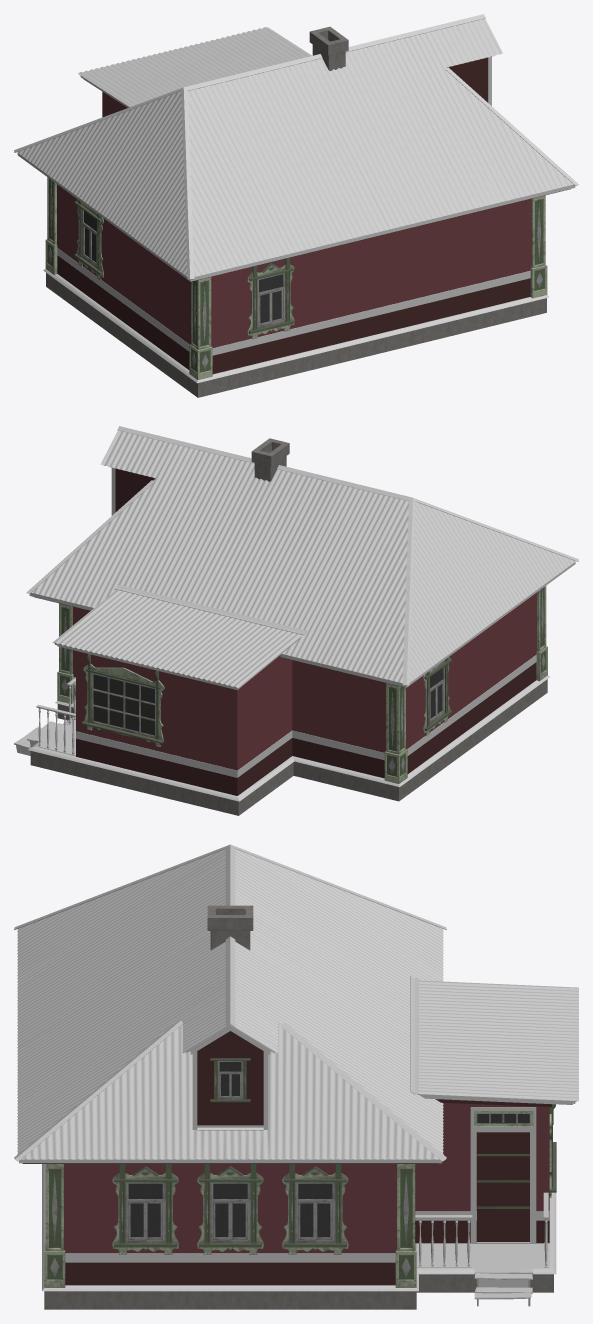
Rendered from Old_Russian_House.fbx.
The picture shows the model from 3 angles, top to bottom: view 1: azimuth 30°, elevation 25°; view 2: azimuth 150°, elevation 25°; view 3: azimuth 270°, elevation 25°; orthographic projection. The views are drawn at different scales.
Parts seen in each view (by area): view 1: Crovel, Body, Elements, Roof; view 2: Crovel, Body, Elements, Roof, Stair; view 3: Crovel, Body, Elements, Door, Roof, Stair.
Part boxes in pixels (bbox=[...]): Crovel: bbox=[14, 14, 578, 279]; Body: bbox=[43, 56, 549, 397]; Elements: bbox=[45, 177, 547, 379]; Roof: bbox=[17, 26, 575, 281]; Crovel: bbox=[26, 426, 578, 687]; Body: bbox=[28, 468, 549, 815]; Elements: bbox=[57, 586, 547, 783]; Roof: bbox=[29, 438, 575, 689]; Stair: bbox=[14, 677, 75, 756]; Crovel: bbox=[14, 844, 578, 1161]; Body: bbox=[42, 1031, 556, 1309]; Elements: bbox=[44, 1058, 556, 1287]; Door: bbox=[470, 1107, 536, 1243]; Roof: bbox=[19, 905, 576, 1163]; Stair: bbox=[415, 1192, 548, 1306].
Size of the model in its own units: 932 by 912 by 570.
